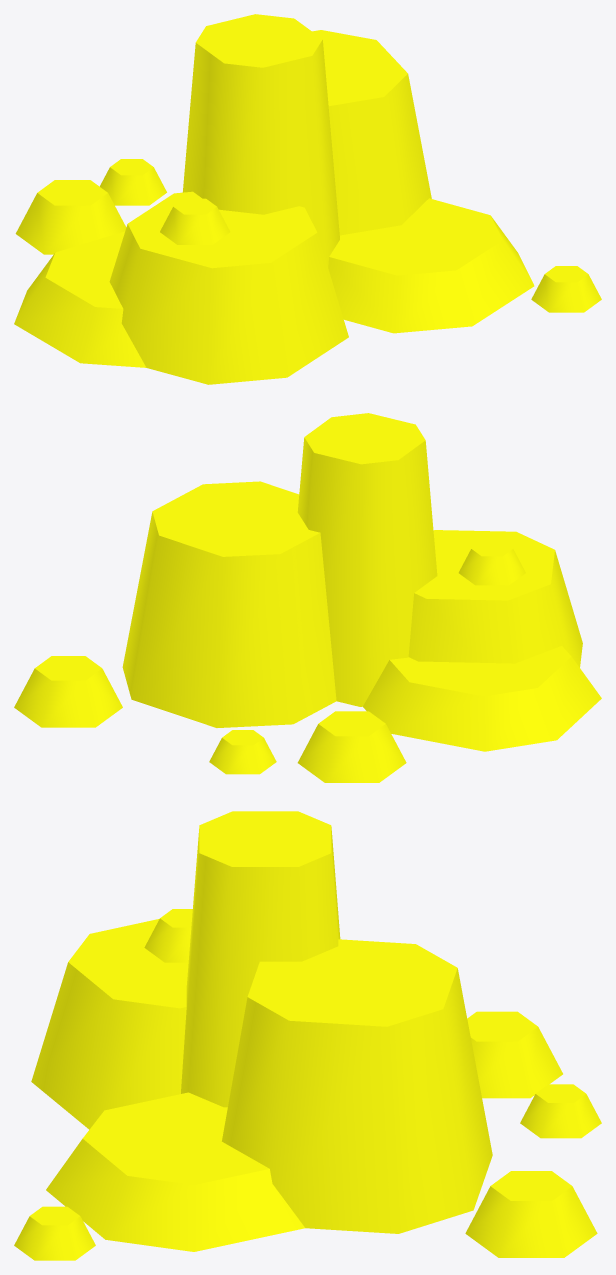
Rendered from 石头假山_石头_组合.glb.
3 views of the same model, one above another, from view 1: azimuth 30°, elevation 25°; view 2: azimuth 150°, elevation 25°; view 3: azimuth 270°, elevation 25° (orthographic). The views are drawn at different scales.
Visible parts, largest first — view 1: stones; view 2: stones; view 3: stones.
Boxes of the visible parts, x1,y1,x2,y2 form: stones: [14, 14, 601, 384]; stones: [14, 413, 601, 782]; stones: [14, 811, 601, 1260].
Bounding box in the file's own units: 0.904 × 0.4539 × 0.8521.
1 material, 1 textured.
